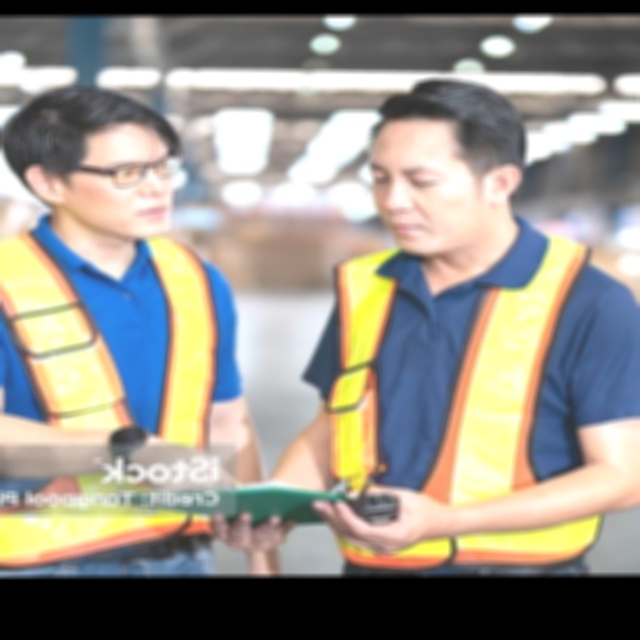Con_Chaleco: (318, 236, 602, 565)
Sin_Casco_Mascarrilla: (365, 77, 530, 258), (0, 87, 189, 242)
